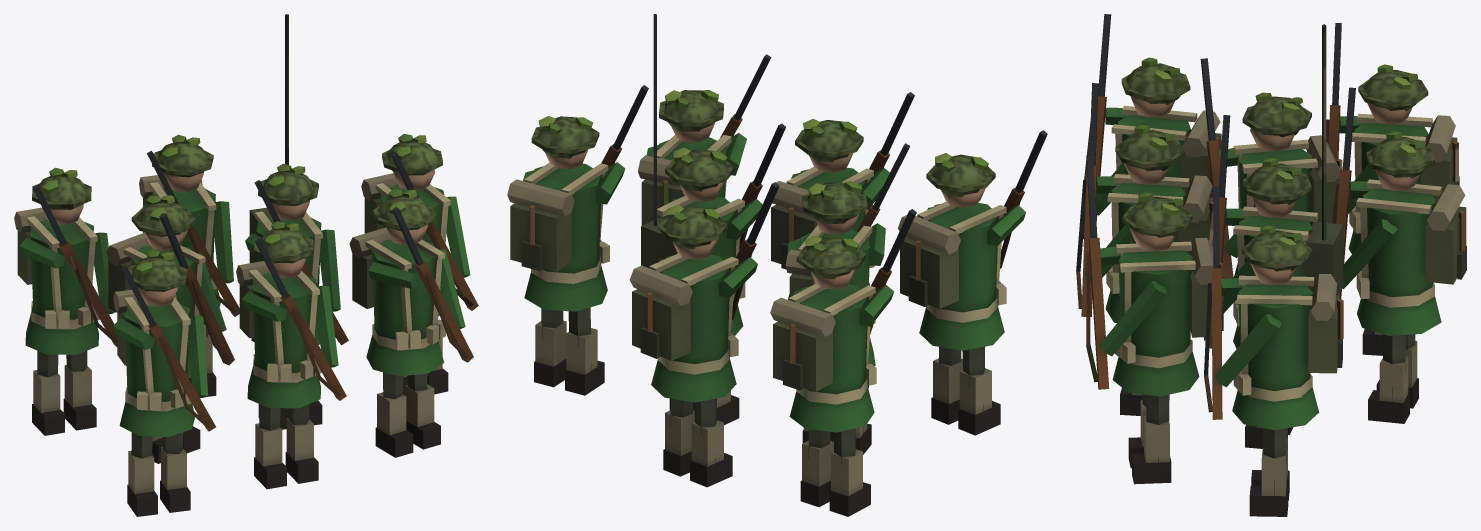
Rendered from squad_dl6_green.glb.
3 renders of one model, left to right at view 1: azimuth 30°, elevation 25°; view 2: azimuth 150°, elevation 25°; view 3: azimuth 270°, elevation 25°, orthographic. The views are drawn at different scales.
Visible parts, largest first — view 1: squad_dl6_green; view 2: squad_dl6_green; view 3: squad_dl6_green.
Boxes of the visible parts, x1,y1,x2,y2 form: squad_dl6_green: (14,14,478,516); squad_dl6_green: (507,14,1047,516); squad_dl6_green: (1076,14,1466,516).
Bounding box in the file's own units: 0.6566 × 0.589 × 0.4939.
1 material, 1 textured.
